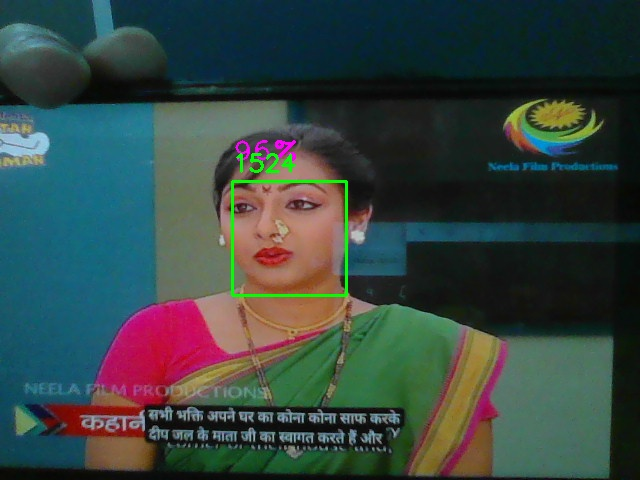fake: (232, 181, 347, 296)
